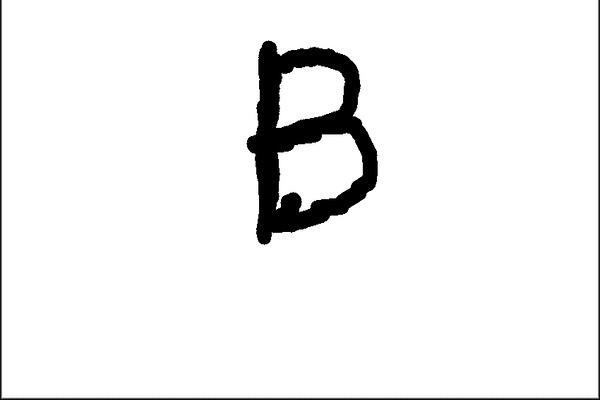B: (240, 31, 388, 254)
